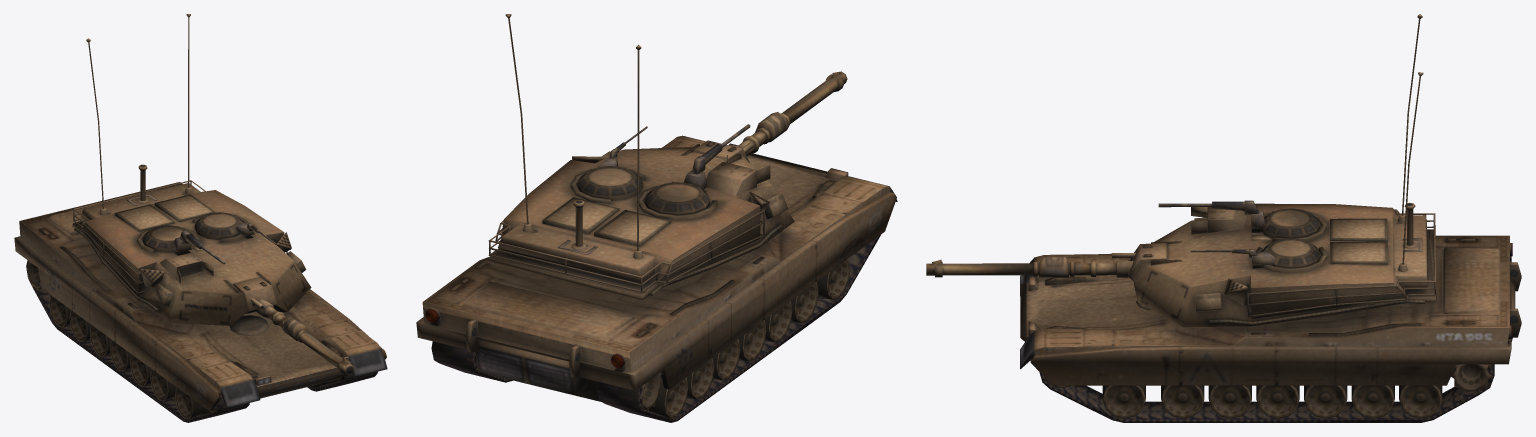
3 views of the same model, side by side, from view 1: azimuth 30°, elevation 25°; view 2: azimuth 150°, elevation 25°; view 3: azimuth 270°, elevation 25° (orthographic). The views are drawn at different scales.
Parts seen in each view (by area): view 1: M1A2; view 2: M1A2; view 3: M1A2.
Boxes of the visible parts, x1=… form: M1A2: x1=14, y1=14, x2=387, y2=422; M1A2: x1=416, y1=14, x2=897, y2=422; M1A2: x1=926, y1=14, x2=1521, y2=422.
Size of the model in its own units: 3.8 by 6.08 by 9.83.
Materials: 1 (1 with a texture image).
